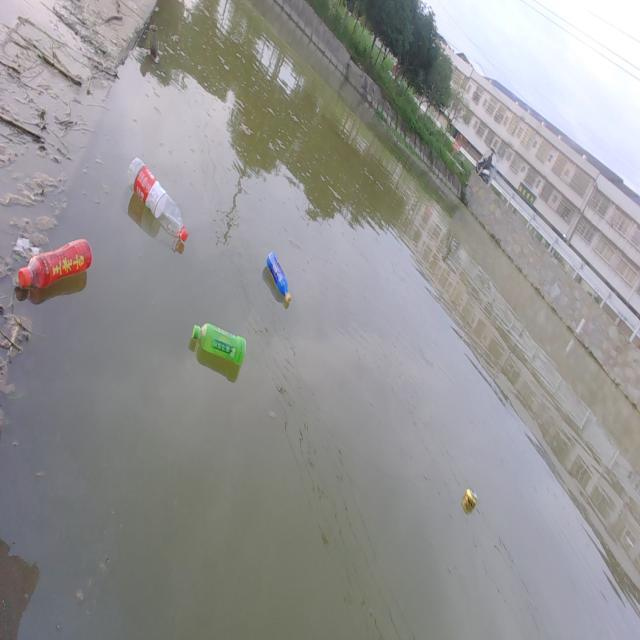garbage: (127, 156, 188, 252), (15, 237, 93, 291), (189, 321, 247, 367), (266, 250, 292, 302)
